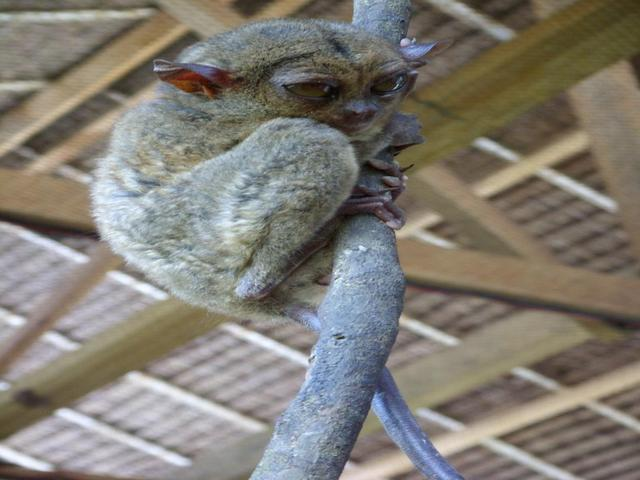monkey: (76, 11, 481, 335)
